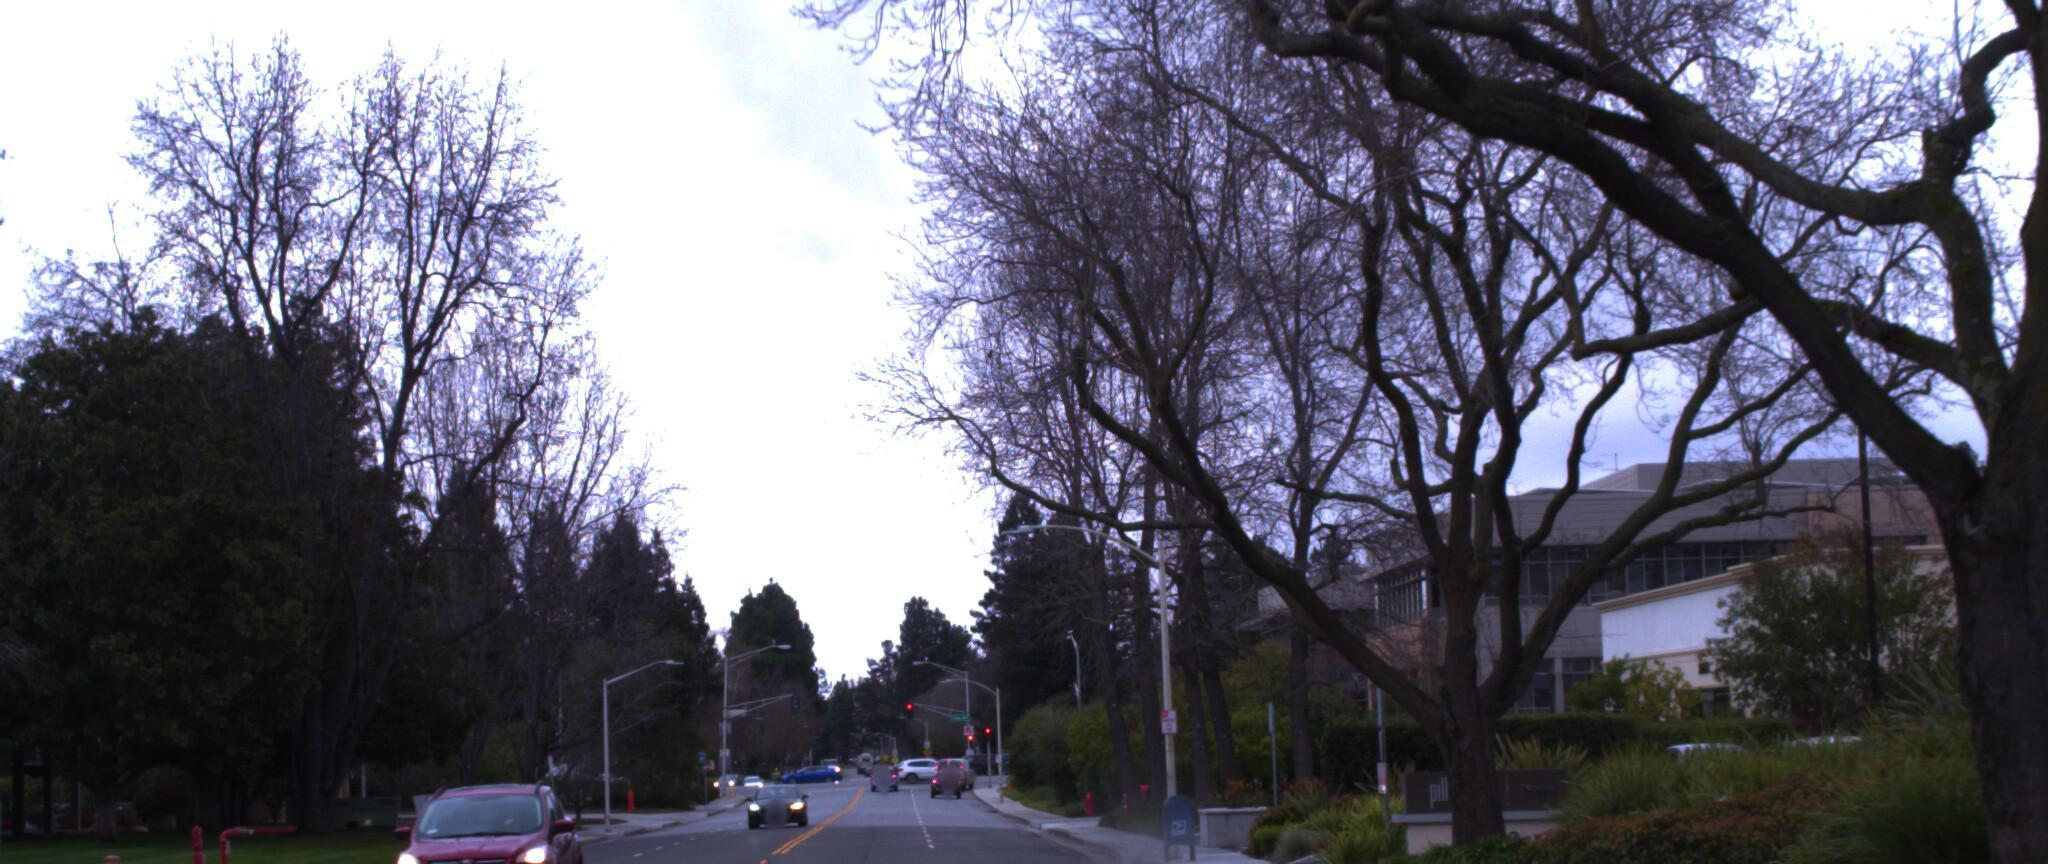car: (389, 761, 597, 864)
